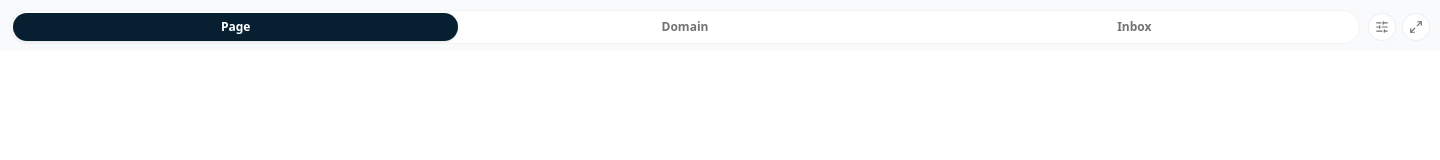
it: FilterBar Component › 初期状態ではフィルタパネルが閉じており、フィルタトグルボタン押下で展開すること
Check: the field with placeholder "Search..." is not shown
Click the button titled "Toggle filters and search". click: [1382, 27]
box: [1368,13,1396,41]
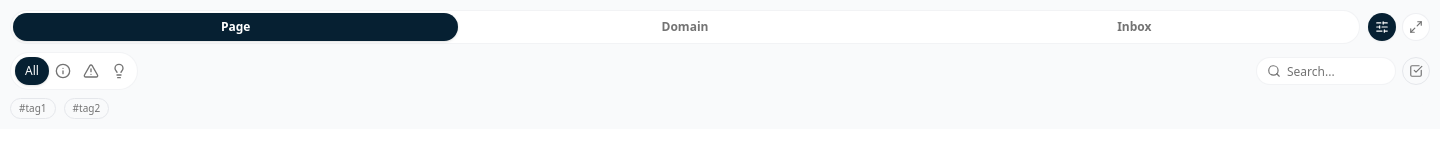
Check: the field with placeholder "Search..." is shown, box [1281,62,1385,80]
Check: the button "#tag1" is shown, box [10,98,56,119]
